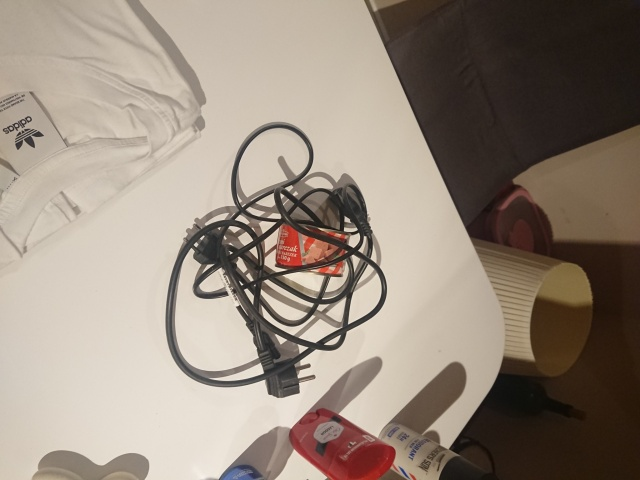Podravka Luncheon Meat 150g: (272, 218, 352, 280)
